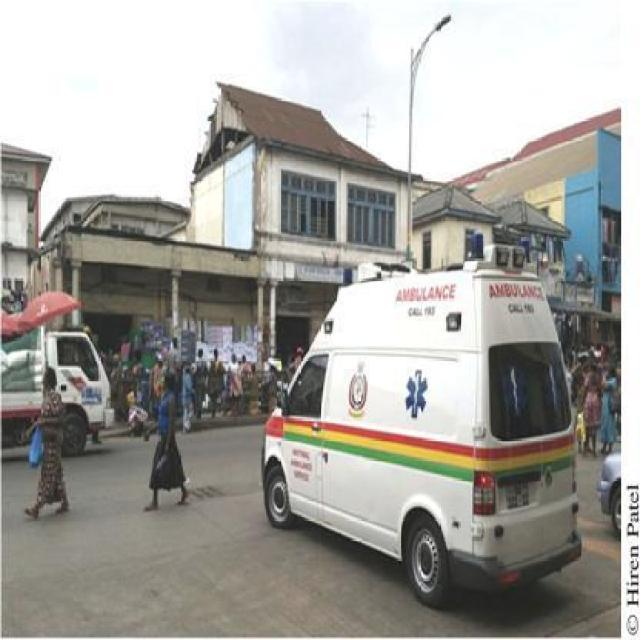emergency: (259, 240, 583, 608)
